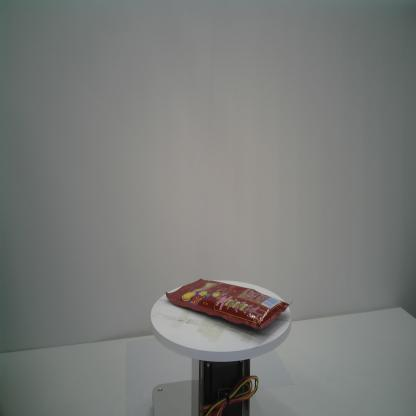Candy: (164, 277, 289, 332)
